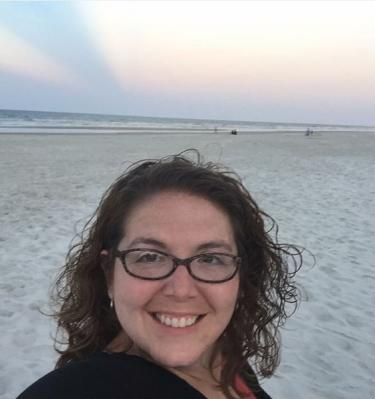face: (113, 195, 237, 368)
